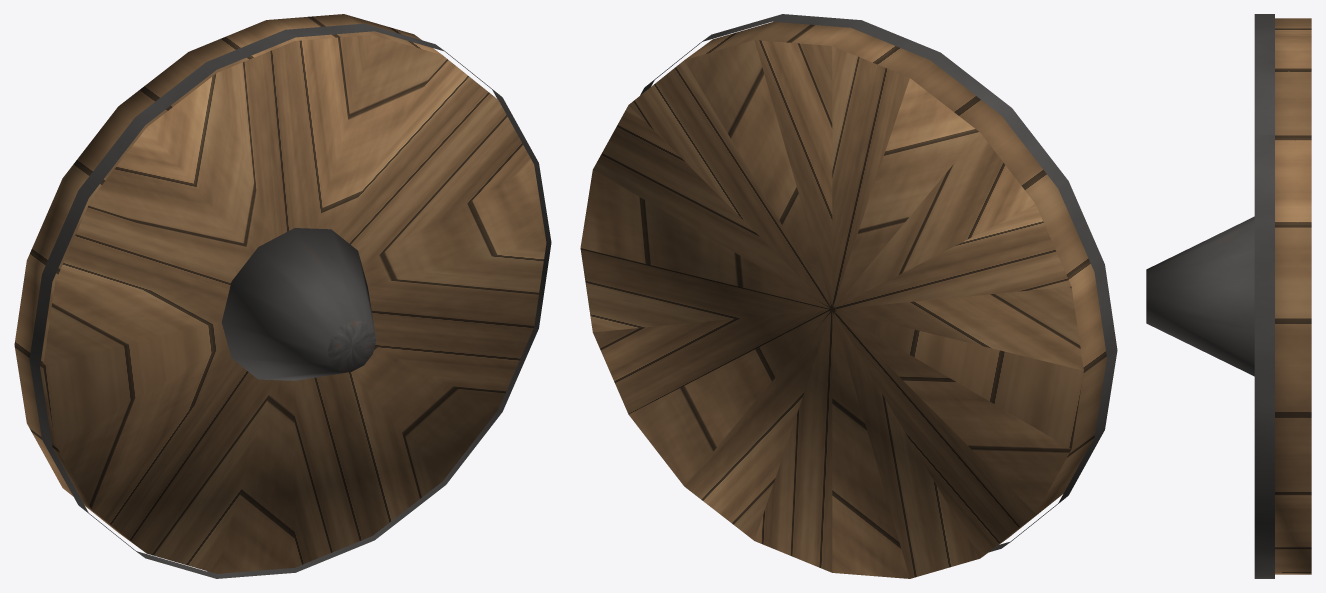
The model's file is Shield_Wooden.gltf.
3 renders of one model, left to right at view 1: azimuth 30°, elevation 25°; view 2: azimuth 150°, elevation 25°; view 3: azimuth 270°, elevation 25°, orthographic. The views are drawn at different scales.
Parts seen in each view (by area): view 1: Shield_Wooden; view 2: Shield_Wooden; view 3: Shield_Wooden.
Part boxes in pixels (x1=…): Shield_Wooden: x1=14, y1=14, x2=551, y2=578; Shield_Wooden: x1=580, y1=14, x2=1117, y2=578; Shield_Wooden: x1=1146, y1=14, x2=1311, y2=578.
Bounding box in the file's own units: 0.62 × 0.62 × 0.18.
2 materials, 2 textured.
